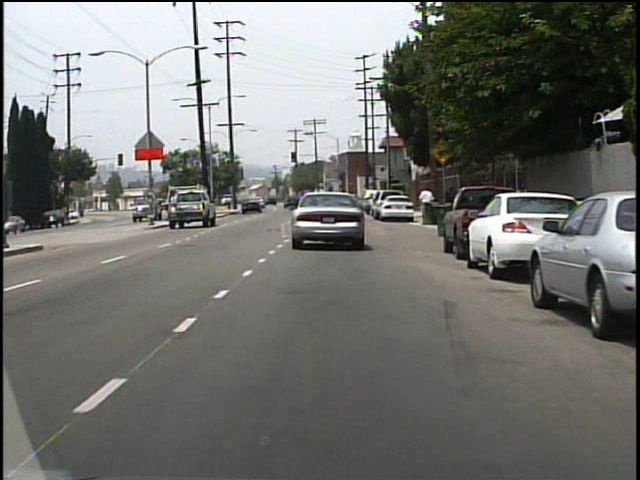person: (417, 184, 436, 205)
